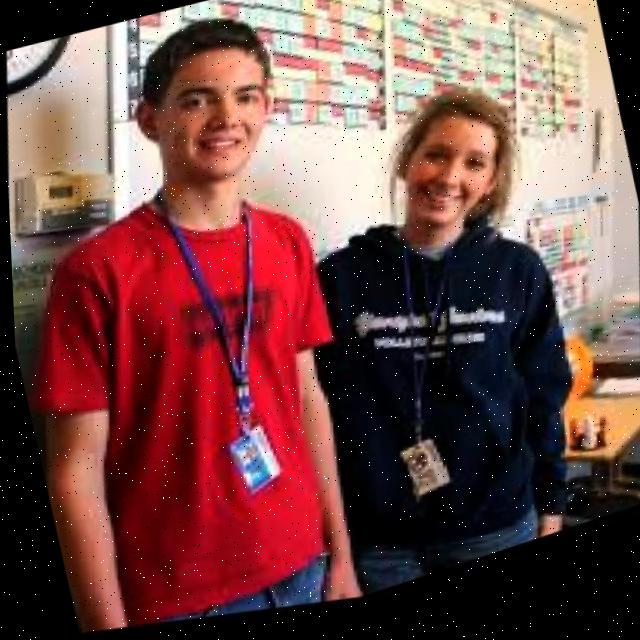id_card: (155, 206, 312, 511), (353, 268, 460, 518)
